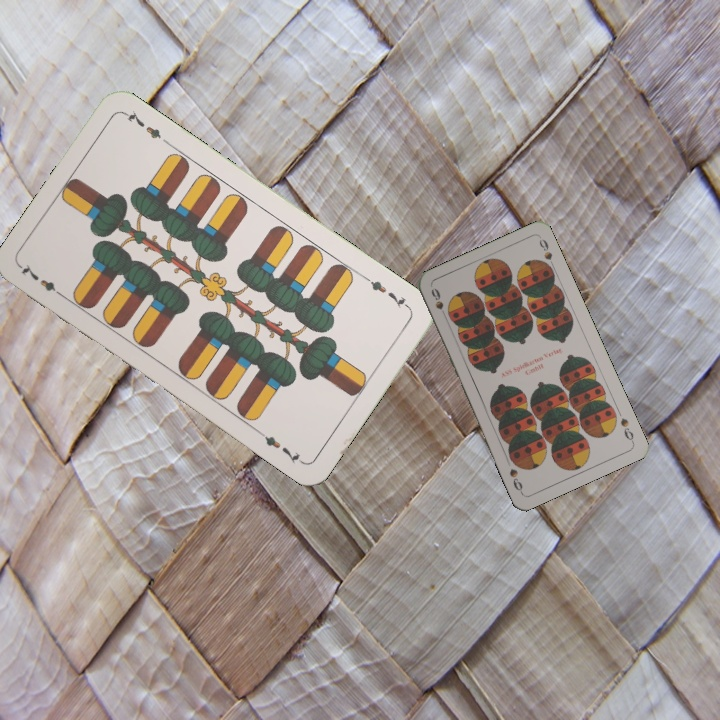E7: (16, 259, 68, 301), (360, 272, 412, 311)
S9: (427, 284, 450, 323), (616, 414, 636, 445)
